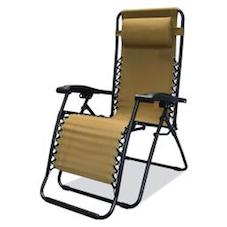chair: (39, 2, 197, 222)
